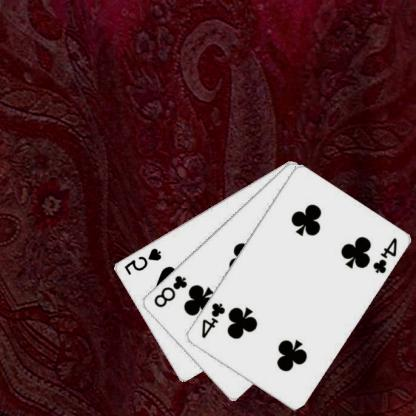4C: (371, 234, 400, 274), (200, 300, 228, 340)
5S: (123, 245, 164, 276)
8C: (153, 272, 190, 309)
